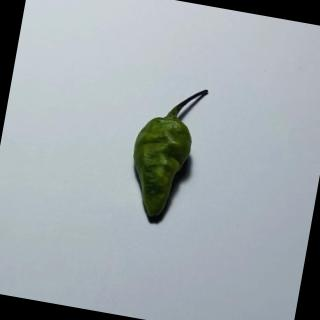Cabai Hijau: (117, 77, 216, 233)
